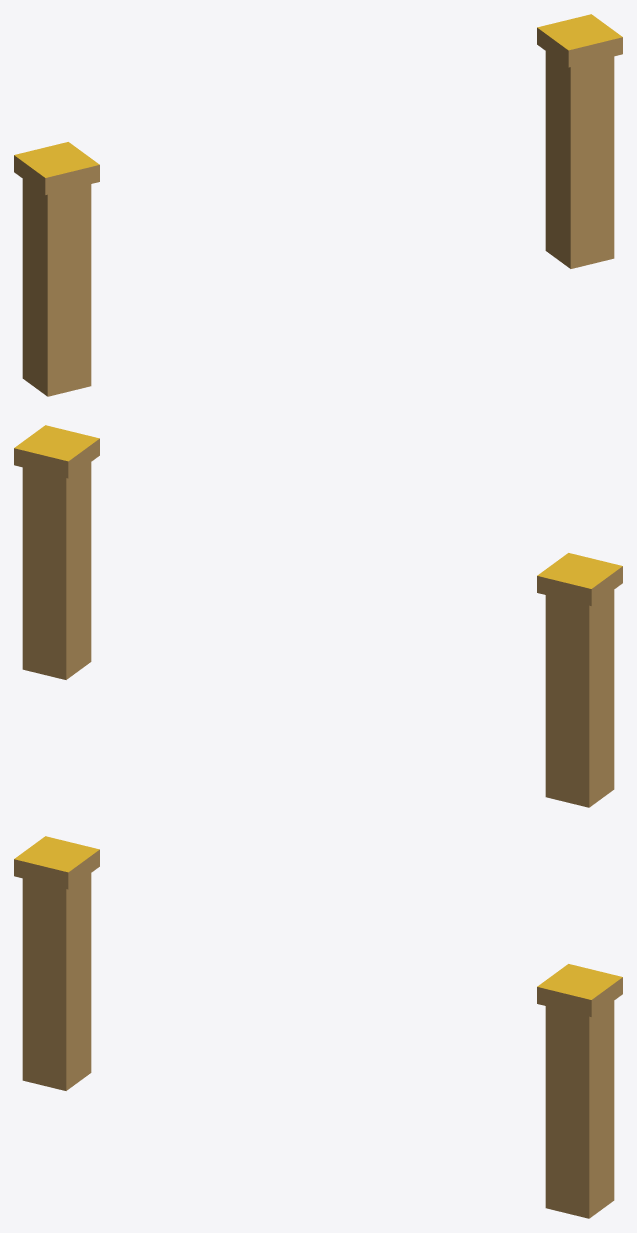
The model's file is env_arch.glb.
The picture shows the model from 3 angles, top to bottom: view 1: azimuth 30°, elevation 25°; view 2: azimuth 150°, elevation 25°; view 3: azimuth 330°, elevation 25°; orthographic projection.
Parts seen in each view (by area): view 1: frame; view 2: frame; view 3: frame.
Boxes of the visible parts, x1,y1,x2,y2 form: frame: (14,14,622,396); frame: (14,425,622,807); frame: (14,836,622,1218).
Bounding box in the file's own units: 1.06 × 0.39 × 0.1.
1 material, 1 textured.
